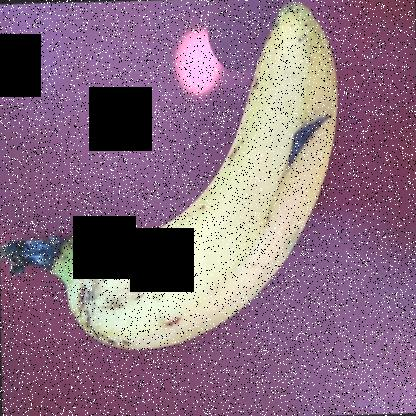ripe: (57, 23, 343, 362)
